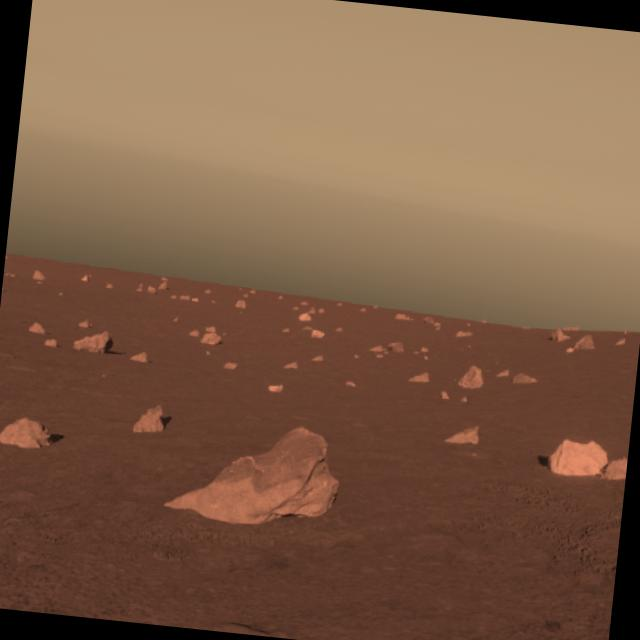rock: (166, 409, 342, 532), (544, 432, 610, 482)
